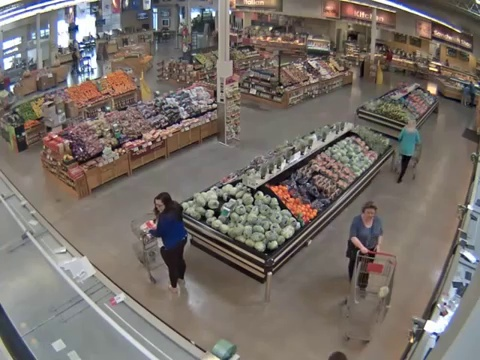face: (152, 198, 167, 213), (365, 207, 375, 221)
